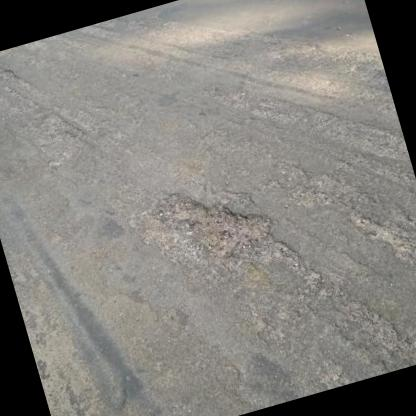pothole: (165, 176, 282, 272)
